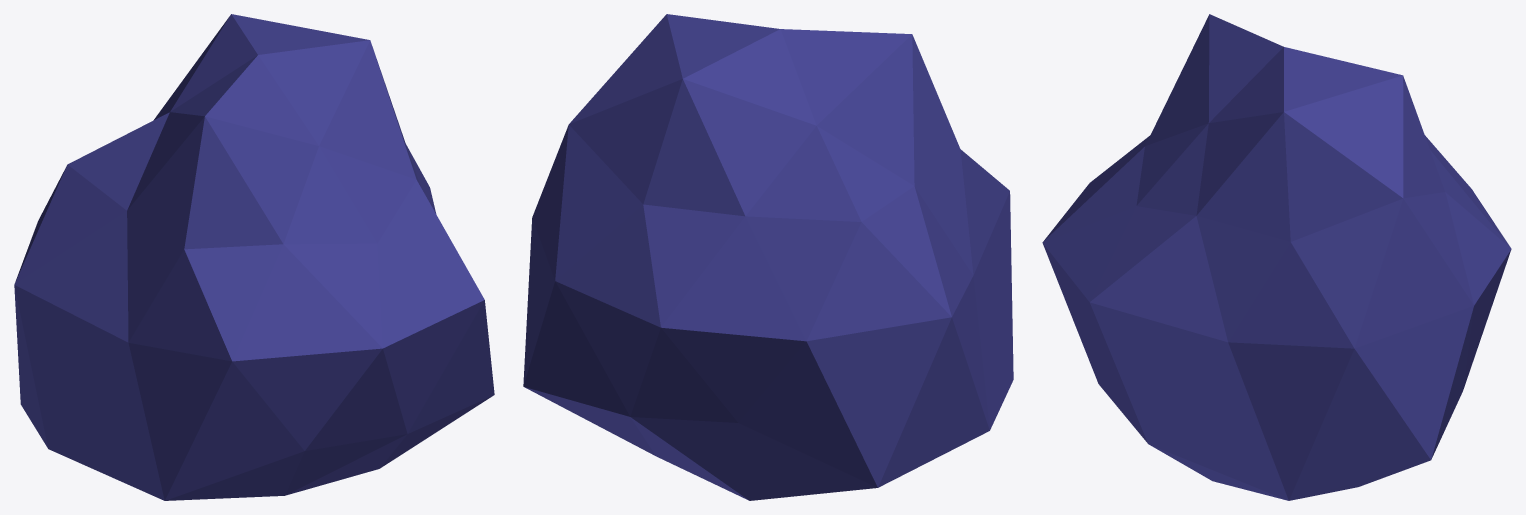
File: stone.fbx
The picture shows the model from 3 angles, left to right: view 1: azimuth 30°, elevation 25°; view 2: azimuth 150°, elevation 25°; view 3: azimuth 270°, elevation 25°; orthographic projection. The views are drawn at different scales.
Visible parts, largest first — view 1: Stone; view 2: Stone; view 3: Stone.
Part boxes in pixels (x1,y1,x2,y2): Stone: [14, 14, 494, 500]; Stone: [523, 14, 1013, 500]; Stone: [1042, 14, 1511, 500].
Size of the model in its own units: 195 by 185 by 197.
